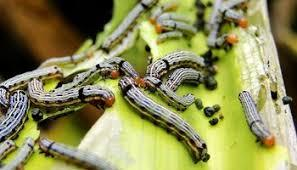fallarmy_worm: (114, 76, 216, 163), (22, 80, 117, 111), (236, 87, 275, 149), (145, 53, 211, 79)
